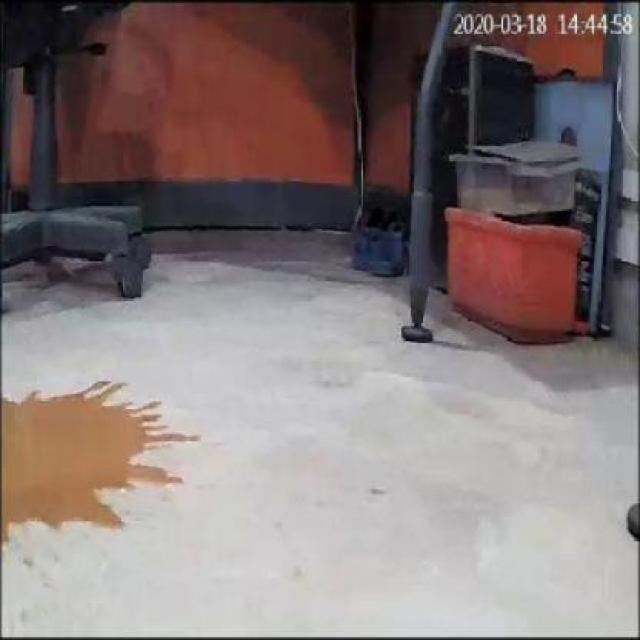spillage: (2, 385, 171, 531)
